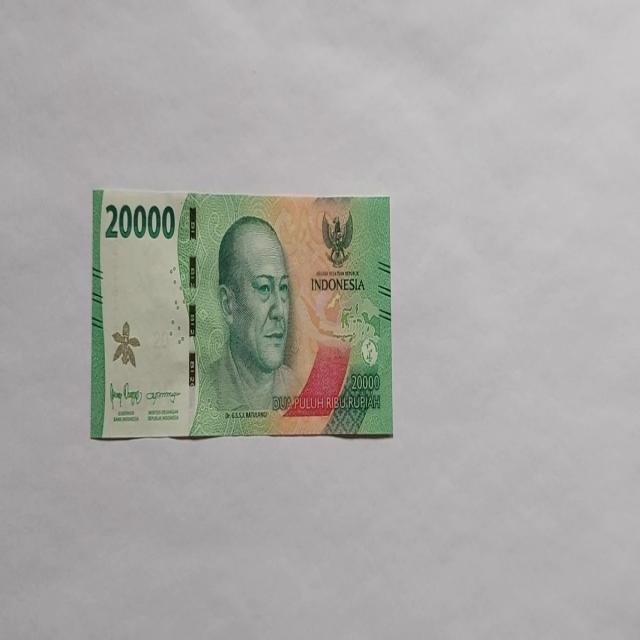dua puluh ribu rupiah: (89, 187, 393, 441)
